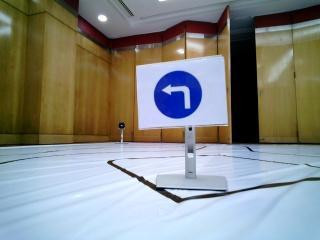left: (146, 60, 218, 124)
